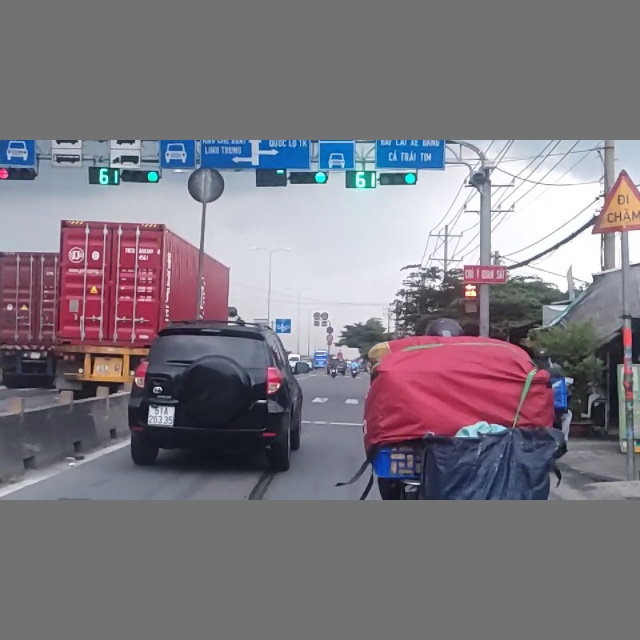W.245a: (593, 169, 640, 234)
